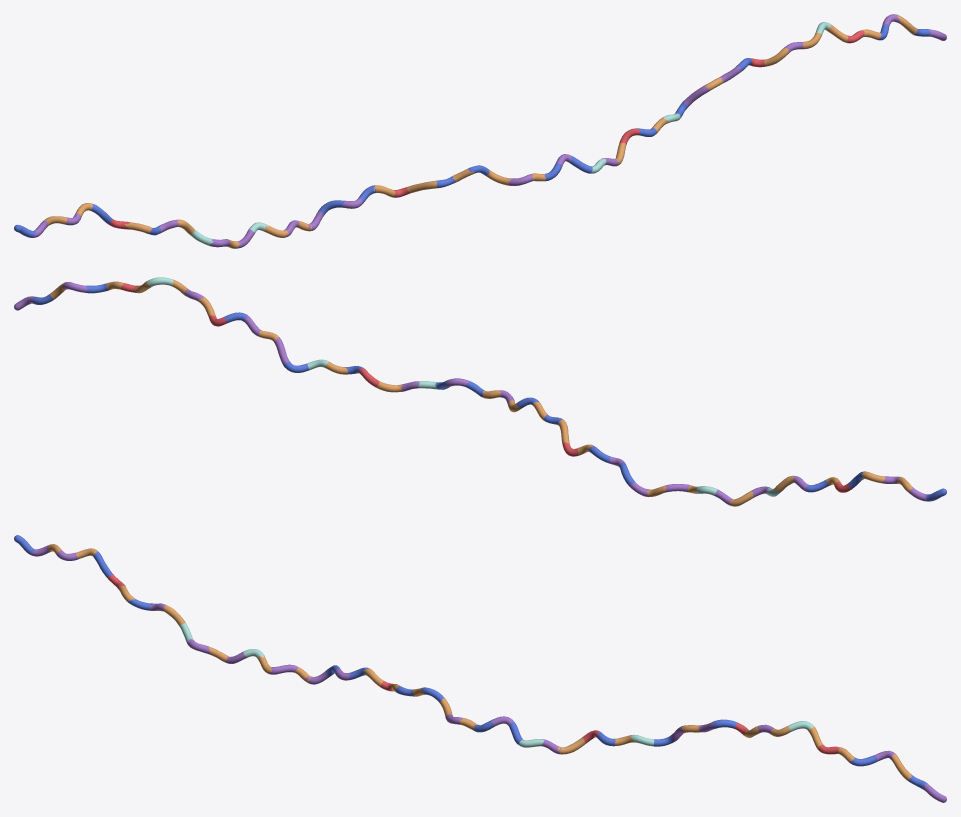
Rendered from Chromatin_Rope.fbx.
The picture shows the model from 3 angles, top to bottom: view 1: azimuth 30°, elevation 25°; view 2: azimuth 150°, elevation 25°; view 3: azimuth 330°, elevation 25°; orthographic projection.
Visible parts, largest first — view 1: Chromatin_Rope; view 2: Chromatin_Rope; view 3: Chromatin_Rope.
Part boxes in pixels (bbox=[...]): Chromatin_Rope: bbox=[14, 14, 946, 248]; Chromatin_Rope: bbox=[14, 277, 946, 506]; Chromatin_Rope: bbox=[14, 535, 946, 802].
Bounding box in the file's own units: 0.6042 × 0.0565 × 0.0473.
1 material, 1 textured.
